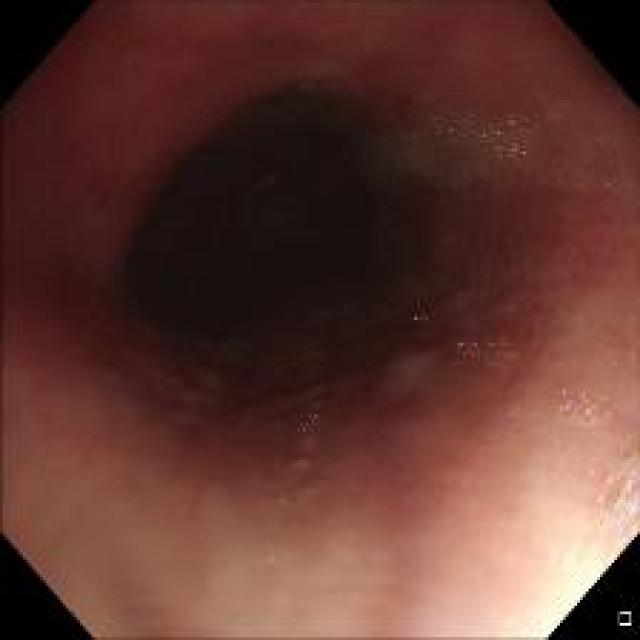bubbles: (371, 100, 579, 192), (591, 451, 636, 540), (451, 329, 518, 376), (561, 386, 612, 432), (294, 408, 322, 470), (279, 489, 292, 509)
color misalignment: (600, 461, 636, 516), (564, 392, 609, 428), (455, 334, 481, 360), (492, 140, 522, 158), (411, 310, 429, 328), (441, 121, 454, 135)
contrast: (120, 71, 492, 422)
saturation: (480, 486, 631, 639)
